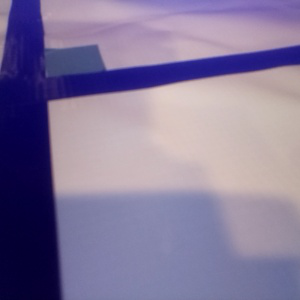top_right: (6, 44, 106, 91)
